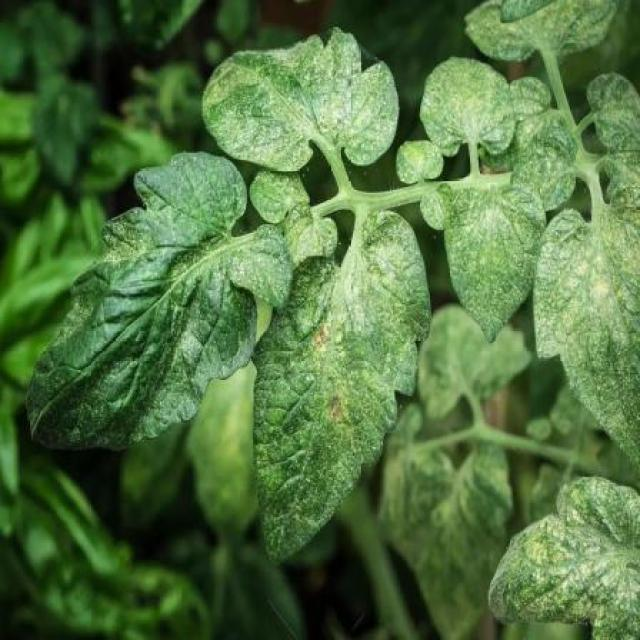Spider Mites: (23, 149, 260, 452), (250, 212, 429, 557), (197, 28, 400, 169), (485, 475, 640, 640), (439, 177, 548, 344), (417, 56, 516, 157)
